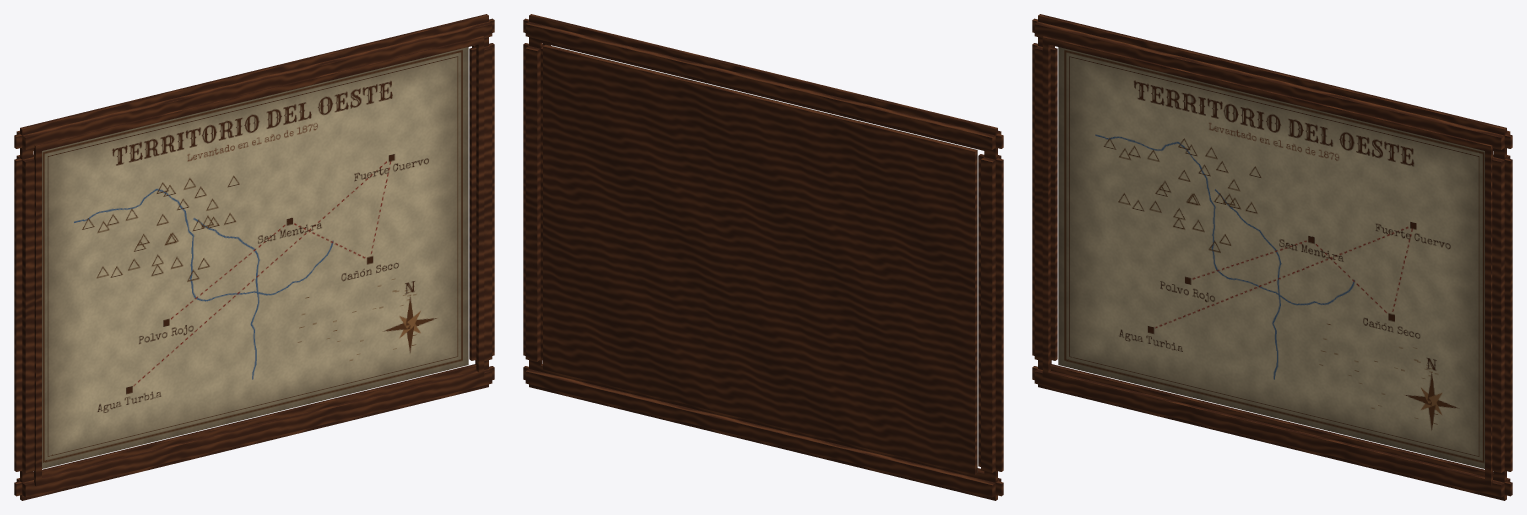
Rendered from Cuadro_Mapa_Antiguo.fbx.
The picture shows the model from 3 angles, left to right: view 1: azimuth 30°, elevation 25°; view 2: azimuth 150°, elevation 25°; view 3: azimuth 330°, elevation 25°; orthographic projection.
Visible parts, largest first — view 1: Cuadro_Mapa_Antiguo; view 2: Cuadro_Mapa_Antiguo; view 3: Cuadro_Mapa_Antiguo.
Boxes of the visible parts, x1,y1,x2,y2 form: Cuadro_Mapa_Antiguo: [14, 14, 494, 500]; Cuadro_Mapa_Antiguo: [523, 14, 1003, 500]; Cuadro_Mapa_Antiguo: [1032, 14, 1512, 500].
Size of the model in its own units: 0.93 by 0.69 by 0.0345.
2 materials, 2 textured.
